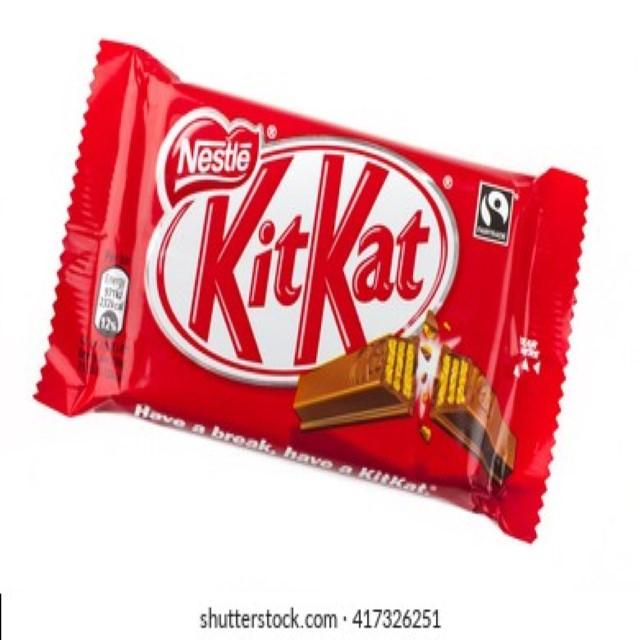kitkat_chocolate: (53, 45, 600, 533)
